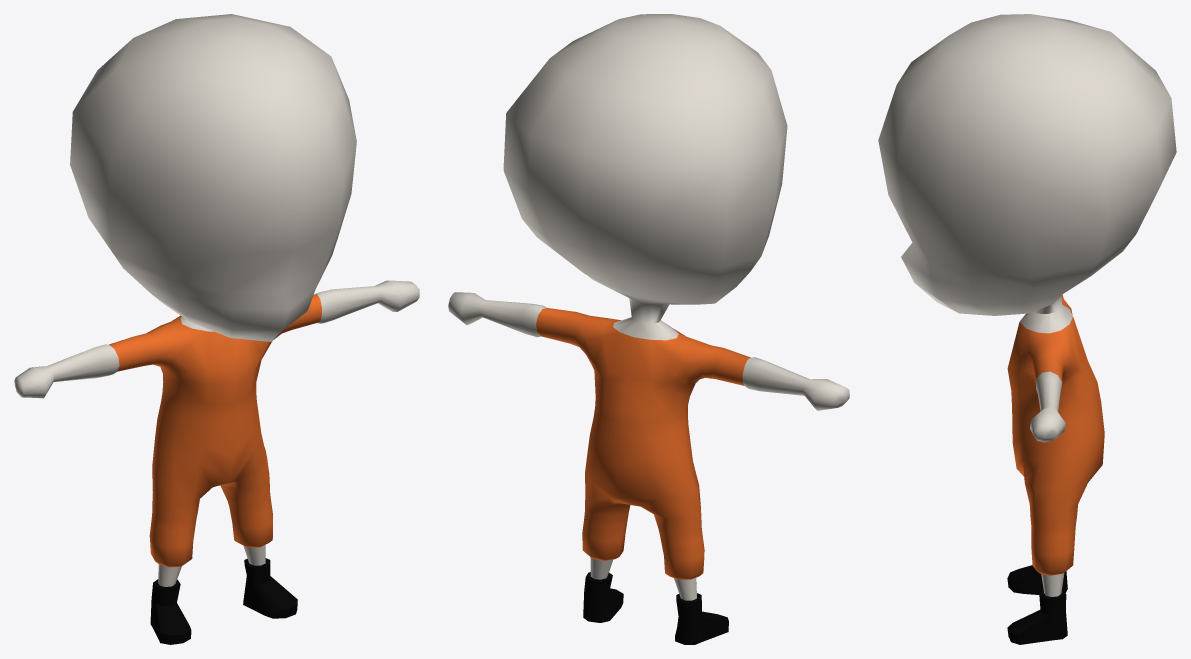
Rendered from Sman.fbx.
The picture shows the model from 3 angles, left to right: view 1: azimuth 30°, elevation 25°; view 2: azimuth 150°, elevation 25°; view 3: azimuth 270°, elevation 25°; orthographic projection.
Parts seen in each view (by area): view 1: body.004; view 2: body.004; view 3: body.004.
Part boxes in pixels (left/top/right/bottom): body.004: left=14, top=14, right=419, bottom=644; body.004: left=448, top=14, right=849, bottom=644; body.004: left=878, top=14, right=1176, bottom=644.
Size of the model in its own units: 0.8854 by 1.25 by 0.5813.
